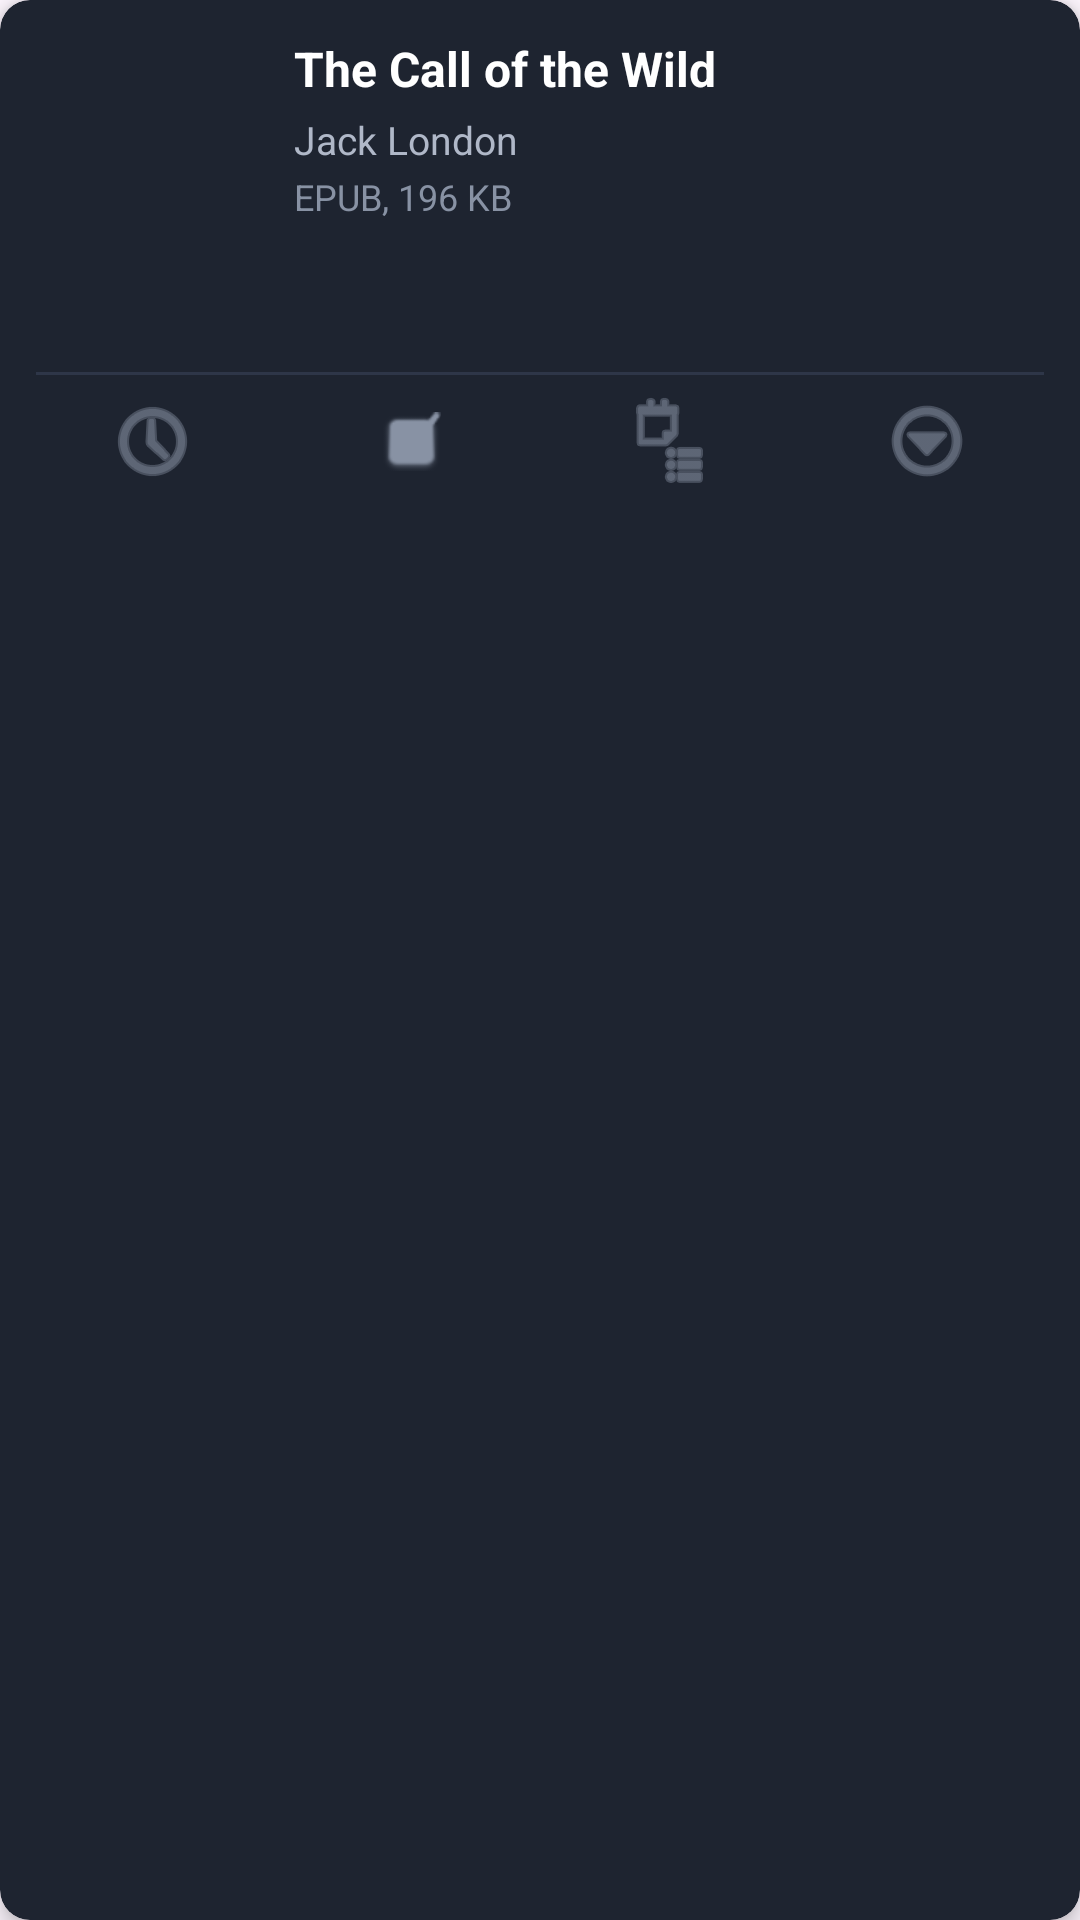

Icon click points for this 1080w x 1920h phone screenshot, format (x=x, y=y):
Add to shelf: (x=669, y=440)
More options: (x=927, y=441)
Reading history: (x=152, y=441)
